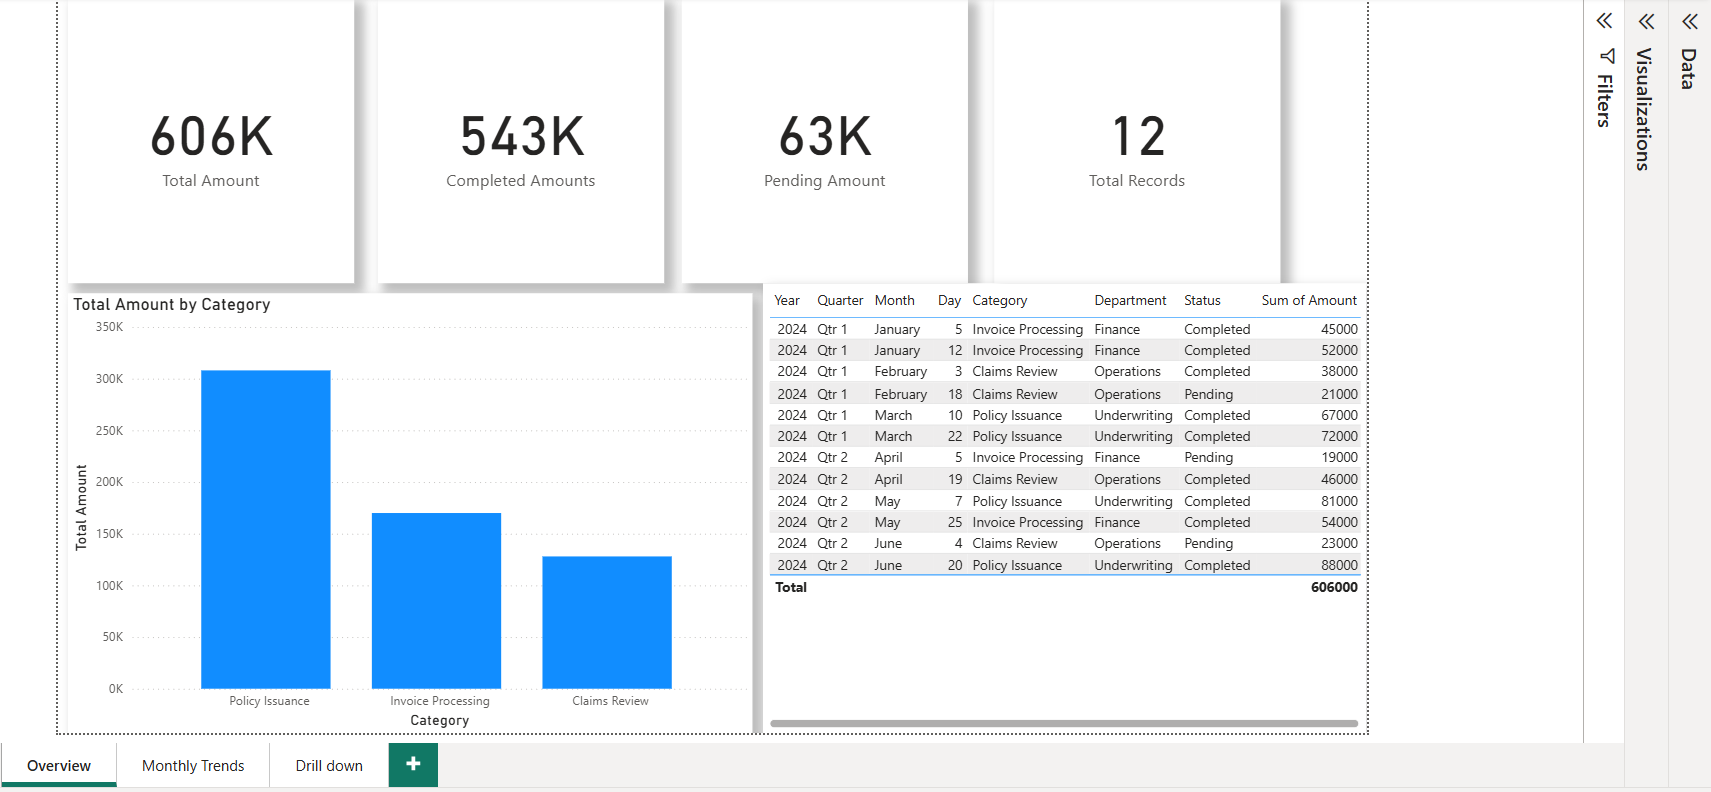

This screenshot's page, from the dashboard's own definition file:
{"tool":"powerbi","page":{"name":"Overview","canvas":[1280,720],"ordinal":0},"visuals":[{"type":"card","fields":{"Values":["Operational_Data.Total Amount"]},"box":[10,0,280,280],"z":0},{"type":"card","fields":{"Values":["Operational_Data.Completed Amounts"]},"box":[313,0,280,280],"z":1000},{"type":"card","fields":{"Values":["Operational_Data.Pending Amount"]},"box":[610.2,0,280,280],"z":2000},{"type":"card","fields":{"Values":["Operational_Data.Total Records"]},"box":[915.9,0,280,280],"z":3000},{"type":"columnChart","fields":{"Category":["Operational_Data.Category"],"Y":["Operational_Data.Total Amount"]},"box":[9.6,289.5,669.6,430.9],"z":4000},{"type":"tableEx","fields":{"Values":["Operational_Data.Date.Variation.Date Hierarchy.Year","Operational_Data.Date.Variation.Date Hierarchy.Quarter","Operational_Data.Date.Variation.Date Hierarchy.Month","Operational_Data.Date.Variation.Date Hierarchy.Day","Operational_Data.Category","Operational_Data.Department","Operational_Data.Status","Sum(Operational_Data.Amount)"]},"box":[690.2,279.9,590.1,440.5],"z":5000}]}

Visuals, with their boxes on the page's 1280x720 design canvas (x1, y1, x2, y2). These are canvas units, not pixel positions in the 1711x792 screenshot, which may show the page scaled, cropped or inside an application window:
card - Operational_Data.Total Amount: box(10, 0, 290, 280)
card - Operational_Data.Completed Amounts: box(313, 0, 593, 280)
card - Operational_Data.Pending Amount: box(610, 0, 890, 280)
card - Operational_Data.Total Records: box(916, 0, 1196, 280)
columnChart - Operational_Data.Category x Operational_Data.Total Amount: box(10, 290, 679, 720)
tableEx - Operational_Data.Date.Variation.Date Hierarchy.Year x Operational_Data.Date.Variation.Date Hierarchy.Quarter: box(690, 280, 1280, 720)
